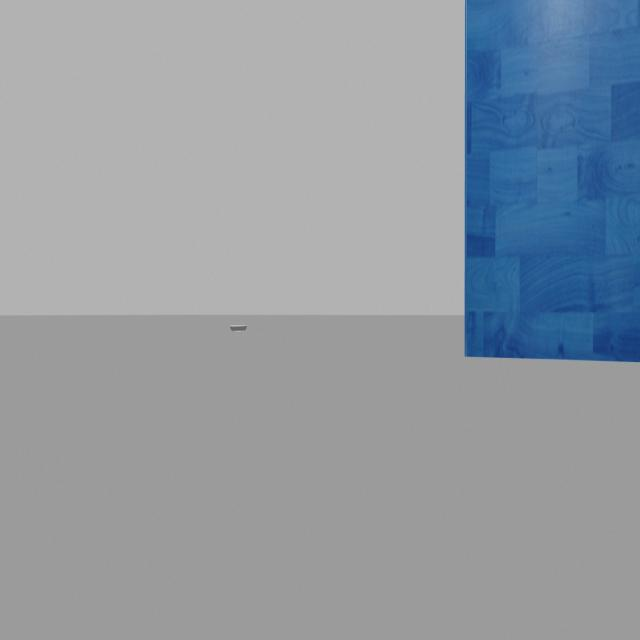bowl: (227, 317, 250, 337)
shelf: (457, 0, 640, 370)
